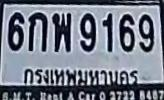1: (102, 12, 112, 52)
6: (7, 11, 23, 50), (119, 13, 134, 51)
9: (79, 12, 95, 51), (138, 14, 154, 52)
A01: (28, 12, 47, 50)
A30: (52, 12, 70, 51)
BKK: (20, 65, 143, 88)
